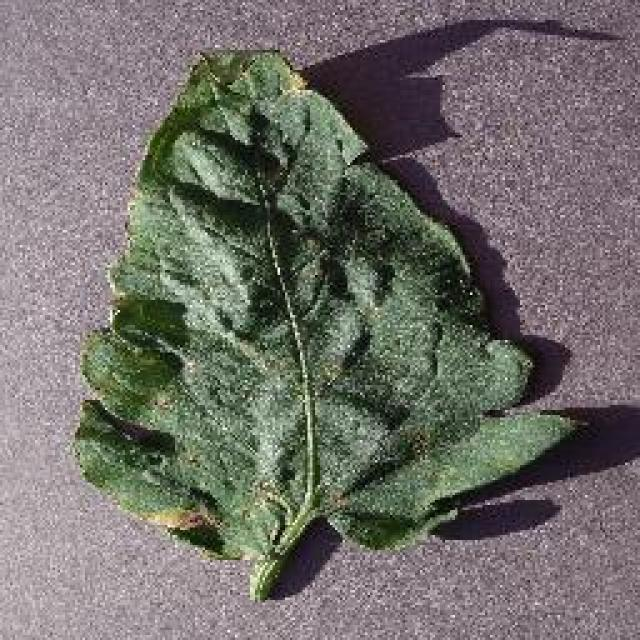Tomato___Target_Spot: (72, 50, 582, 598)
